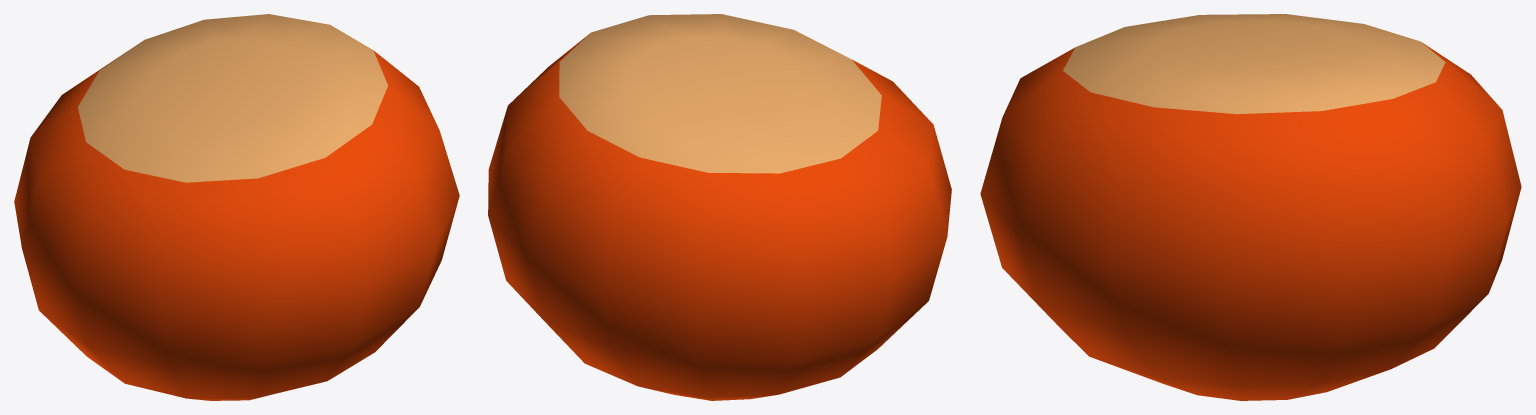
The model's file is m_chestnut.fbx.
The picture shows the model from 3 angles, left to right: view 1: azimuth 30°, elevation 25°; view 2: azimuth 150°, elevation 25°; view 3: azimuth 270°, elevation 25°; orthographic projection. The views are drawn at different scales.
Visible parts, largest first — view 1: m_chestnut; view 2: m_chestnut; view 3: m_chestnut.
Boxes of the visible parts, x1,y1,x2,y2 form: m_chestnut: (14, 14, 459, 400); m_chestnut: (488, 14, 951, 400); m_chestnut: (980, 14, 1521, 400).
Bounding box in the file's own units: 17.58 × 13.17 × 18.58.
